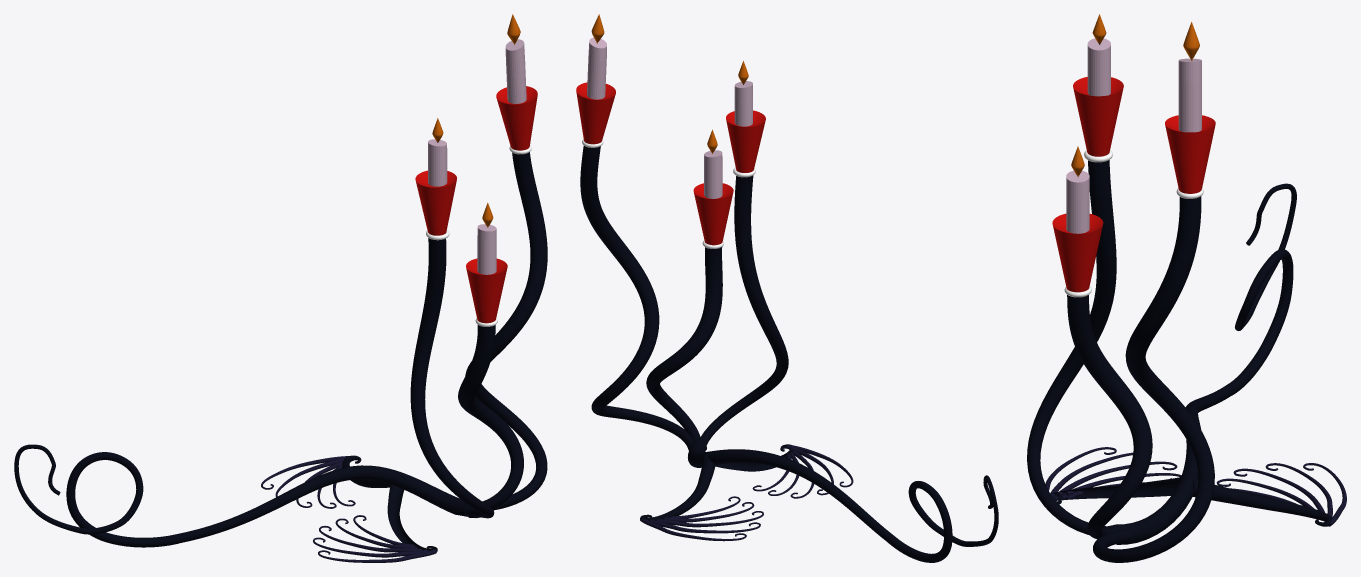
The model's file is candle stand.obj.
The picture shows the model from 3 angles, left to right: view 1: azimuth 30°, elevation 25°; view 2: azimuth 150°, elevation 25°; view 3: azimuth 270°, elevation 25°; orthographic projection. The views are drawn at different scales.
Parts seen in each view (by area): view 1: candle_stand; view 2: candle_stand; view 3: candle_stand.
Part boxes in pixels (x1,y1,x2,y2): candle_stand: (14, 14, 547, 562); candle_stand: (576, 14, 998, 562); candle_stand: (1027, 14, 1346, 562).
Size of the model in its own units: 1.92 by 1.78 by 0.9094.
